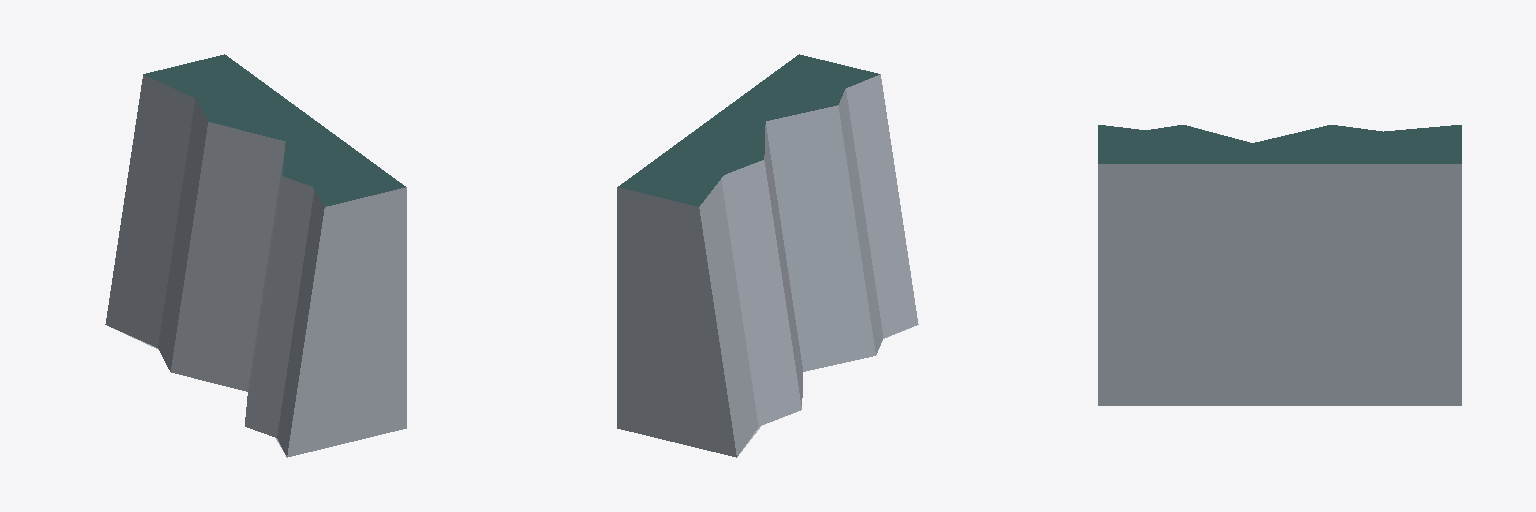
3 renders of one model, left to right at view 1: azimuth 30°, elevation 25°; view 2: azimuth 150°, elevation 25°; view 3: azimuth 270°, elevation 25°, orthographic.
Parts seen in each view (by area): view 1: Mesh1 Grey_Cliff_Bottom_Green_Top Model; view 2: Mesh1 Grey_Cliff_Bottom_Green_Top Model; view 3: Mesh1 Grey_Cliff_Bottom_Green_Top Model.
Boxes of the visible parts, x1=… form: Mesh1 Grey_Cliff_Bottom_Green_Top Model: x1=105, y1=54, x2=406, y2=457; Mesh1 Grey_Cliff_Bottom_Green_Top Model: x1=617, y1=54, x2=918, y2=457; Mesh1 Grey_Cliff_Bottom_Green_Top Model: x1=1098, y1=125, x2=1461, y2=405.
Bounding box in the file's own units: 1.14 × 2.2 × 3.
Materials: 1 (1 with a texture image).